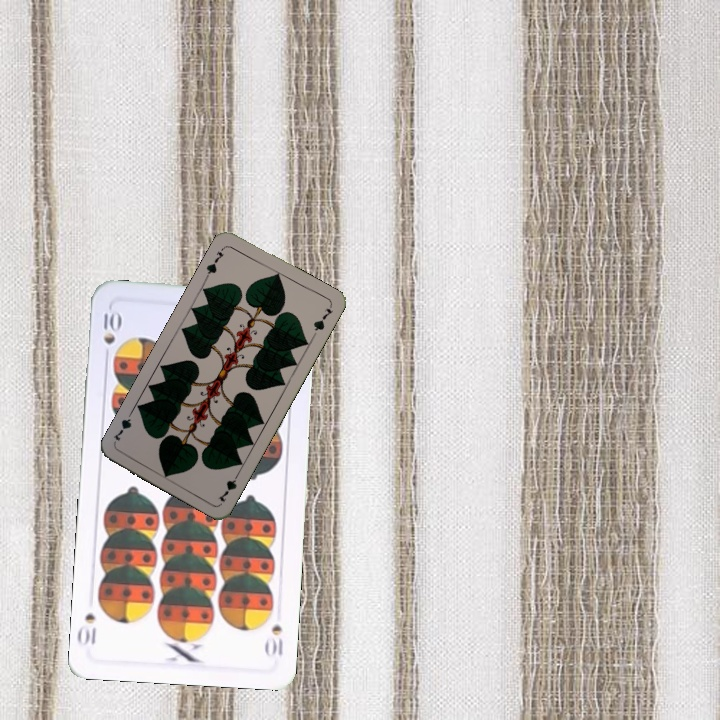G7: (214, 468, 242, 505), (202, 243, 227, 280)
S10: (99, 304, 123, 363), (262, 621, 285, 659)
